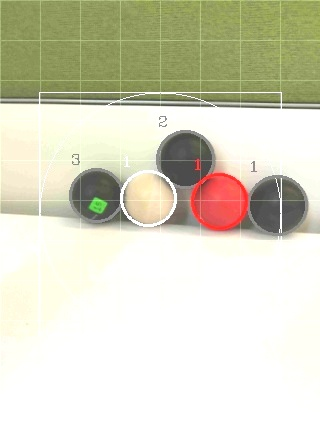Pelota blanca: (119, 169, 177, 227)
Pelota negra: (247, 174, 310, 235), (153, 129, 217, 187), (68, 166, 121, 224)
Pelota roja: (188, 169, 249, 232)
